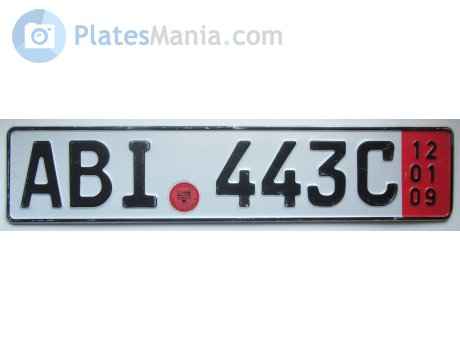License Plates: (26, 132, 396, 212)
